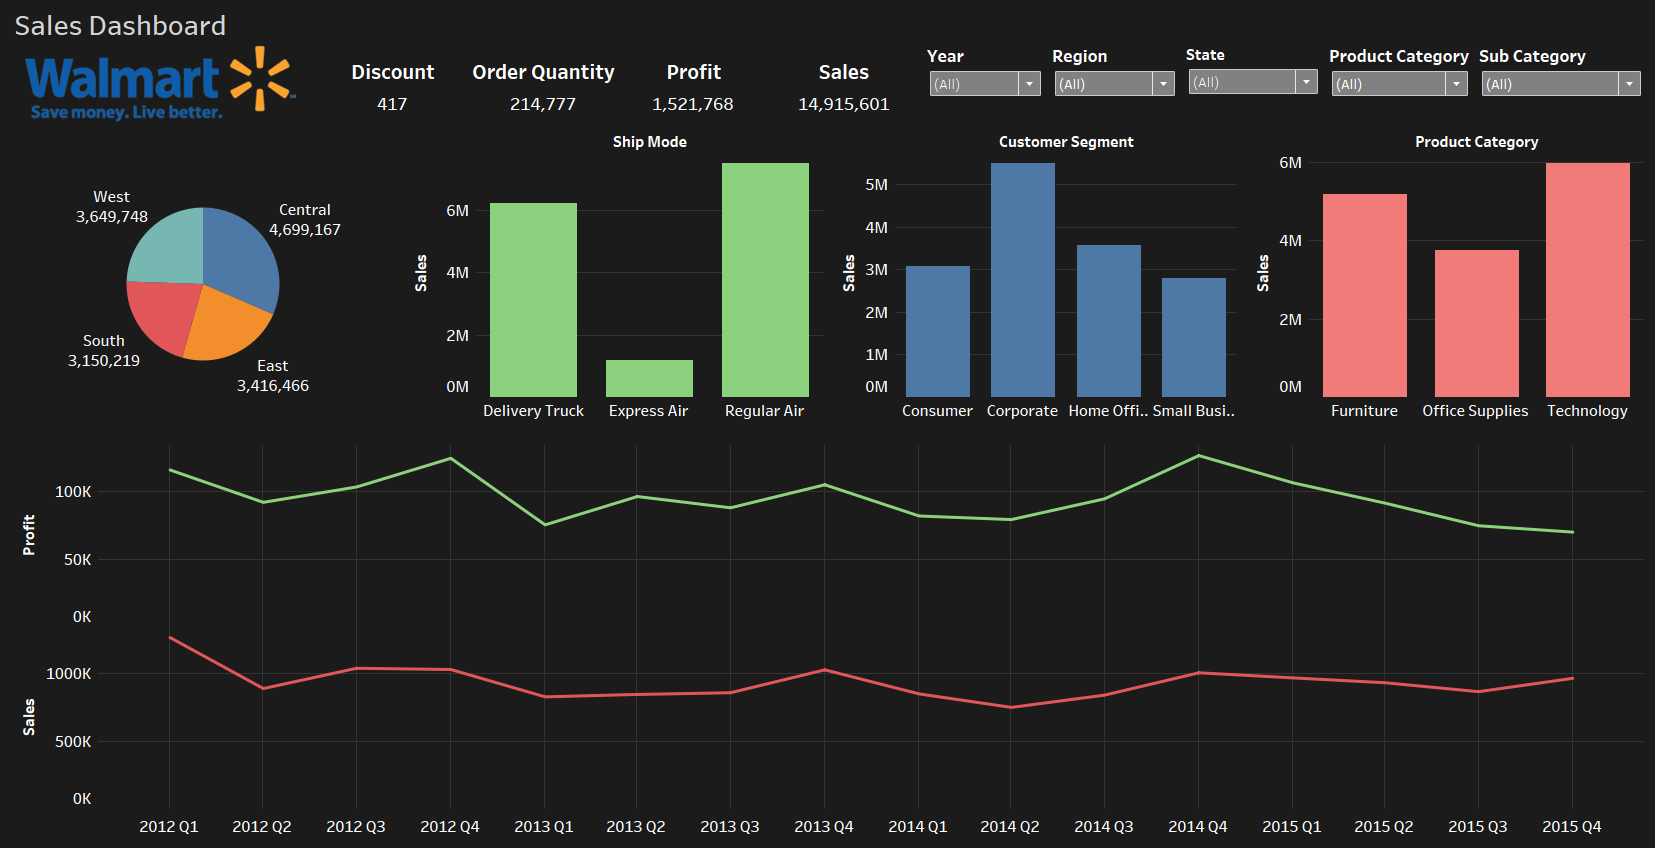

What the dashboard file says about the page in this screenshot:
{"tool":"tableau","page":{"name":"Dashboard 1","canvas":[1000,1000],"units":"permille","ordinal":0},"visuals":[{"type":"title","box":[4.8,9.4,990.3,37.6]},{"type":"image","param":"Image/kisspng-logo-walmart-graphics-organization-retail-walmart-reviews-page-272","box":[4.8,47,185.3,102.2]},{"type":"worksheet","title":"kpi","mark":"Automatic","box":[190.1,47,367.5,102.2]},{"type":"filter","title":"line chart","param":"[federated.12jcg9f12ezbbr16e6s3x15mklzo].[yr:Order Date:ok]","box":[557.6,47,75.4,102.2]},{"type":"filter","title":"kpi","param":"[federated.12jcg9f12ezbbr16e6s3x15mklzo].[none:Region:nk]","box":[633.1,47,80.9,102.2]},{"type":"filter","title":"product category","param":"[federated.12jcg9f12ezbbr16e6s3x15mklzo].[none:State:nk]","box":[713.9,47,86.3,102.2]},{"type":"filter","title":"kpi","param":"[federated.12jcg9f12ezbbr16e6s3x15mklzo].[none:Product Category:nk]","box":[800.2,47,90.5,102.2]},{"type":"filter","title":"kpi","param":"[federated.12jcg9f12ezbbr16e6s3x15mklzo].[none:Product Sub-Category:nk]","box":[890.8,47,104.4,102.2]},{"type":"worksheet","title":"piechart","mark":"Pie","box":[4.8,149.2,236.5,368.9]},{"type":"worksheet","title":"ship mode","mark":"Automatic","rows":["Sales"],"cols":["Ship Mode"],"box":[241.3,149.2,258.3,368.9]},{"type":"worksheet","title":"consumer segment","mark":"Automatic","rows":["Sales"],"cols":["Customer Segment"],"box":[499.6,149.2,249.8,368.9]},{"type":"worksheet","title":"product category","mark":"Automatic","rows":["Sales"],"cols":["Product Category"],"box":[749.4,149.2,245.8,368.9]},{"type":"worksheet","title":"line chart","mark":"Automatic","rows":["Profit","Sales"],"cols":["Order Date"],"box":[4.8,518.1,990.3,472.5]}]}

Visuals, with their boxes on the dashboard's canvas, which has no fixed pixel size, in thousandths of its width and height (x1, y1, x2, y2). These are canvas units, not pixel positions in the 1655x848 screenshot, which may show the page scaled, cropped or inside an application window:
title: 5,9,995,47
image: 5,47,190,149
"kpi" worksheet: 190,47,558,149
"line chart" filter: 558,47,633,149
"kpi" filter: 633,47,714,149
"product category" filter: 714,47,800,149
"kpi" filter: 800,47,891,149
"kpi" filter: 891,47,995,149
"piechart" worksheet (Pie marks): 5,149,241,518
"ship mode" worksheet: 241,149,500,518
"consumer segment" worksheet: 500,149,749,518
"product category" worksheet: 749,149,995,518
"line chart" worksheet: 5,518,995,991
